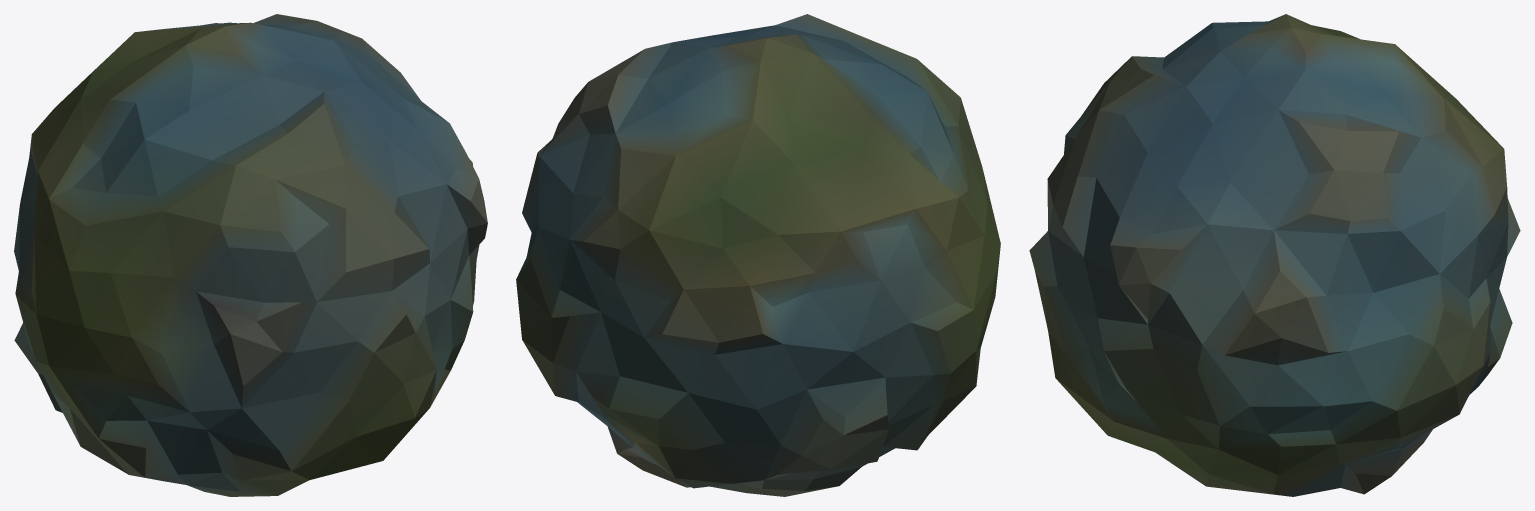
File: Generic_Planets_Planet_Generic_Terran.fbx
3 renders of one model, left to right at view 1: azimuth 30°, elevation 25°; view 2: azimuth 150°, elevation 25°; view 3: azimuth 270°, elevation 25°, orthographic.
Visible parts, largest first — view 1: Planet_Generic_Terran; view 2: Planet_Generic_Terran; view 3: Planet_Generic_Terran.
Boxes of the visible parts, x1,y1,x2,y2 form: Planet_Generic_Terran: (14, 14, 487, 496); Planet_Generic_Terran: (516, 14, 1000, 496); Planet_Generic_Terran: (1029, 14, 1520, 496).
Size of the model in its own units: 20.51 by 20.59 by 20.71.
